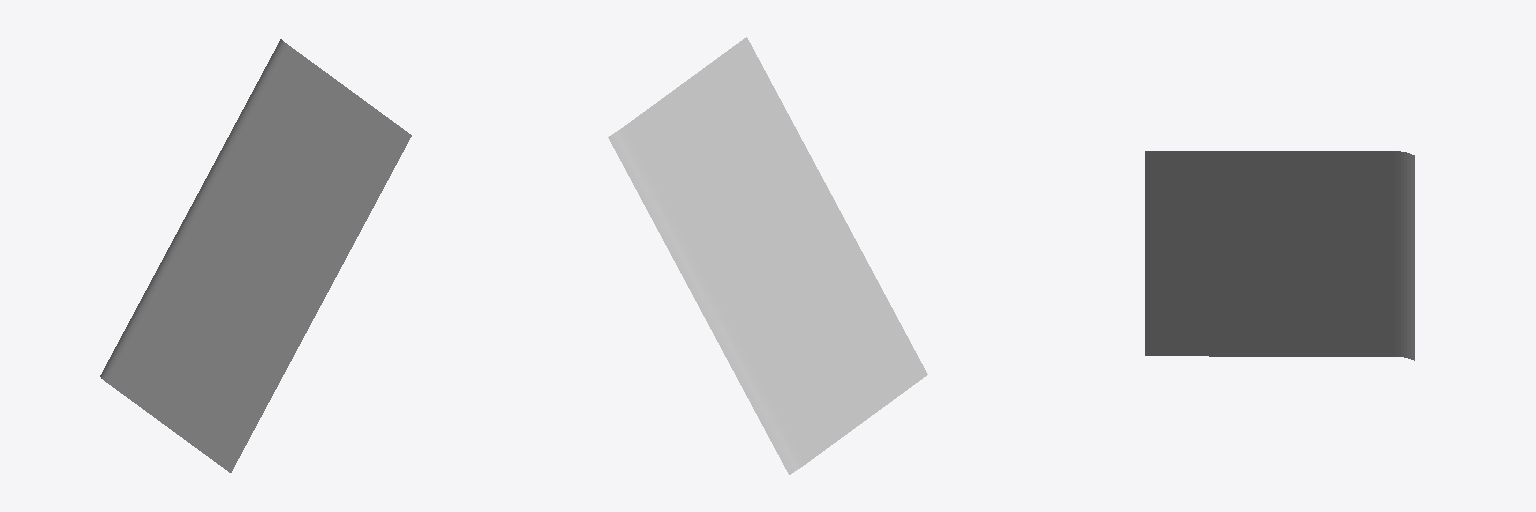
File: Page_21-22_Plane_002.obj
The picture shows the model from 3 angles: view 1: azimuth 30°, elevation 25°; view 2: azimuth 150°, elevation 25°; view 3: azimuth 270°, elevation 25°; orthographic projection.
Parts seen in each view (by area): view 1: Page_21-22_Plane.002; view 2: Page_21-22_Plane.002; view 3: Page_21-22_Plane.002.
Boxes of the visible parts, <box> form: Page_21-22_Plane.002: <box>100,39,411,472</box>; Page_21-22_Plane.002: <box>608,37,927,474</box>; Page_21-22_Plane.002: <box>1145,151,1414,360</box>.
Size of the model in its own units: 2.26 by 3.45 by 2.85.